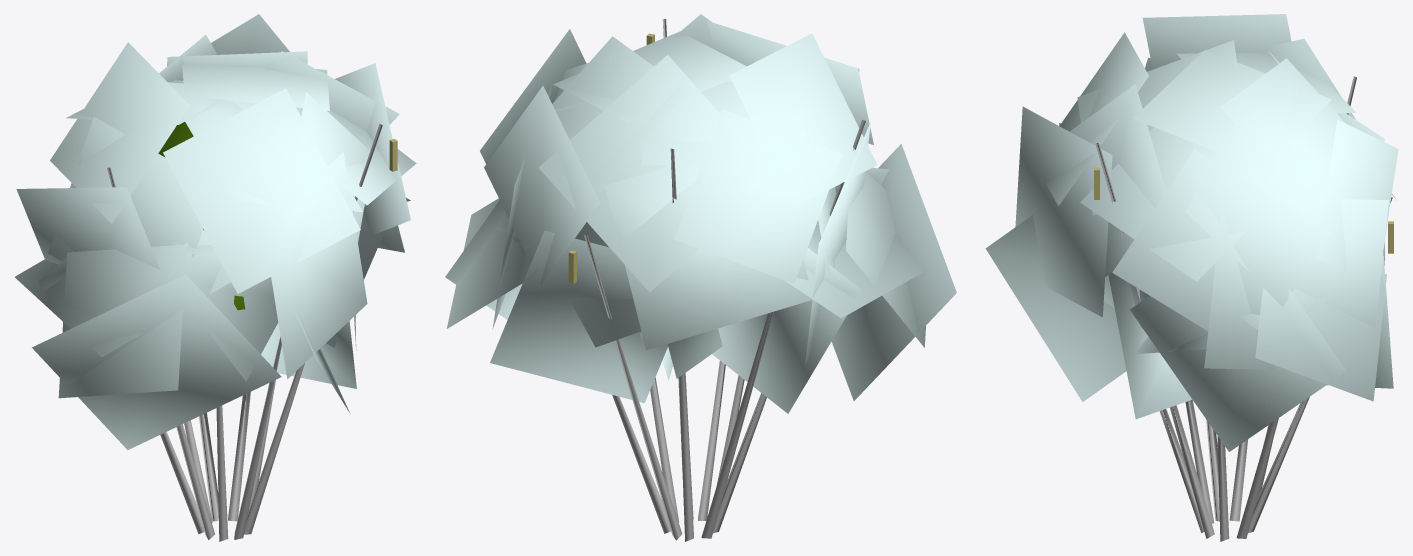
File: shrub_hazel.gltf
3 views of the same model, side by side, from view 1: azimuth 30°, elevation 25°; view 2: azimuth 150°, elevation 25°; view 3: azimuth 270°, elevation 25° (orthographic). The views are drawn at different scales.
Parts seen in each view (by area): view 1: shrub_hazel_Leaf_Mid, shrub_hazel_Bark_Brown, shrub_hazel_Core_Mid; view 2: shrub_hazel_Leaf_Mid, shrub_hazel_Bark_Brown; view 3: shrub_hazel_Leaf_Mid, shrub_hazel_Bark_Brown.
Boxes of the visible parts, left/top/right/bottom form: shrub_hazel_Leaf_Mid: left=15, top=14, right=416, bottom=449; shrub_hazel_Bark_Brown: left=107, top=124, right=382, bottom=541; shrub_hazel_Core_Mid: left=158, top=122, right=245, bottom=310; shrub_hazel_Leaf_Mid: left=445, top=14, right=956, bottom=413; shrub_hazel_Bark_Brown: left=584, top=19, right=865, bottom=541; shrub_hazel_Leaf_Mid: left=985, top=14, right=1398, bottom=451; shrub_hazel_Bark_Brown: left=1096, top=76, right=1392, bottom=541.
Size of the model in its own units: 3.32 by 3.59 by 2.77.
